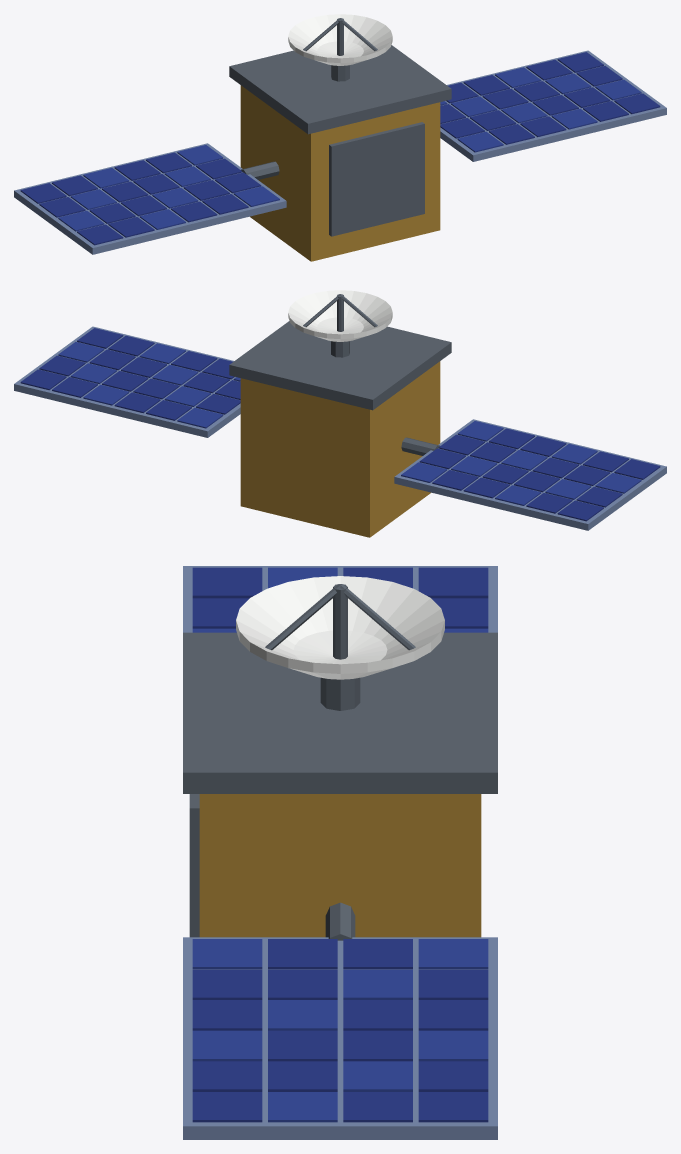
The model's file is satellite.glb.
3 views of the same model, one above another, from view 1: azimuth 30°, elevation 25°; view 2: azimuth 150°, elevation 25°; view 3: azimuth 270°, elevation 25° (orthographic). The views are drawn at different scales.
Parts seen in each view (by area): view 1: satellite body; view 2: satellite body; view 3: satellite body.
Part boxes in pixels (<box>): satellite body: <box>14,14,666,261</box>; satellite body: <box>14,290,666,537</box>; satellite body: <box>183,566,497,1139</box>.
Size of the model in its own units: 8 by 2.69 by 1.9.
